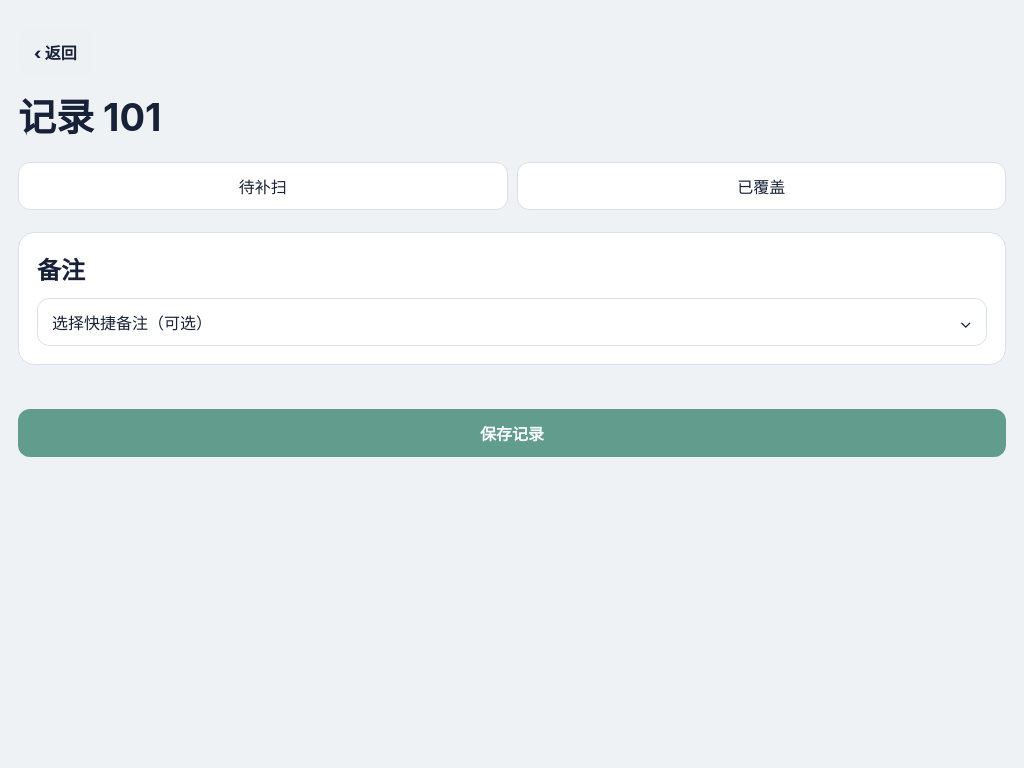
RecordEditor › starts create and batch editors empty and disables save until status selection
Check: the button "保存记录" is disabled, box [18,409,1006,457]
Step 1. Click the button "待补扫" → (263, 186), box [18,162,508,210]
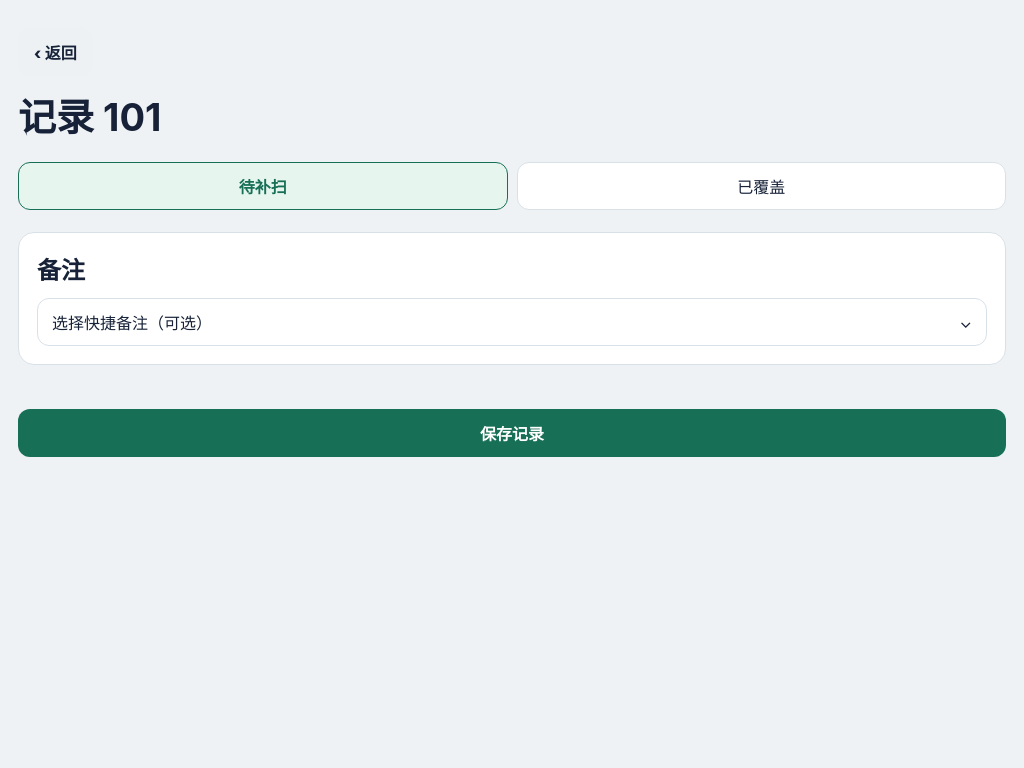
Check: the option "晚点再来" is not shown
Check: the button "保存记录" is enabled, box [18,409,1006,457]
Step 2. Click the button "选择快捷备注（可选） ⌄" → (132, 323), box [37,298,987,346]
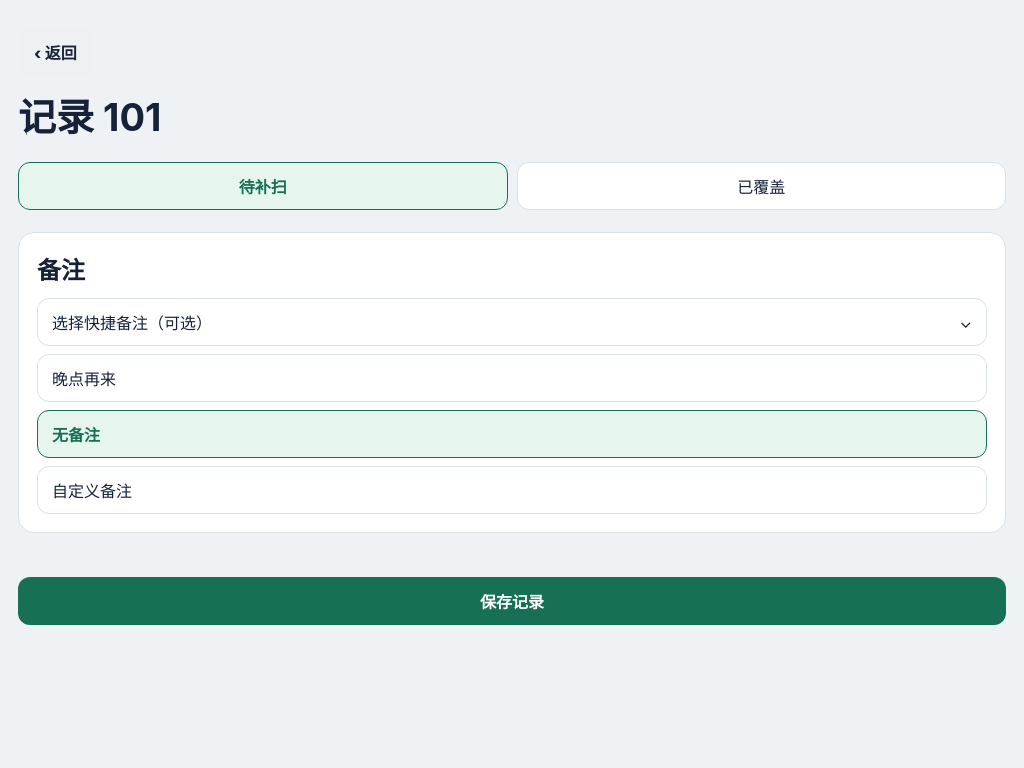
Check: the option "晚点再来" is shown, box [37,354,987,402]
